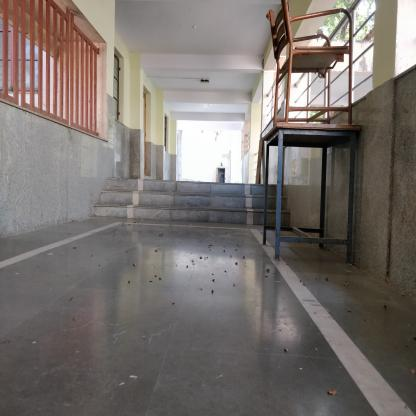stairs: (108, 180, 261, 225)
